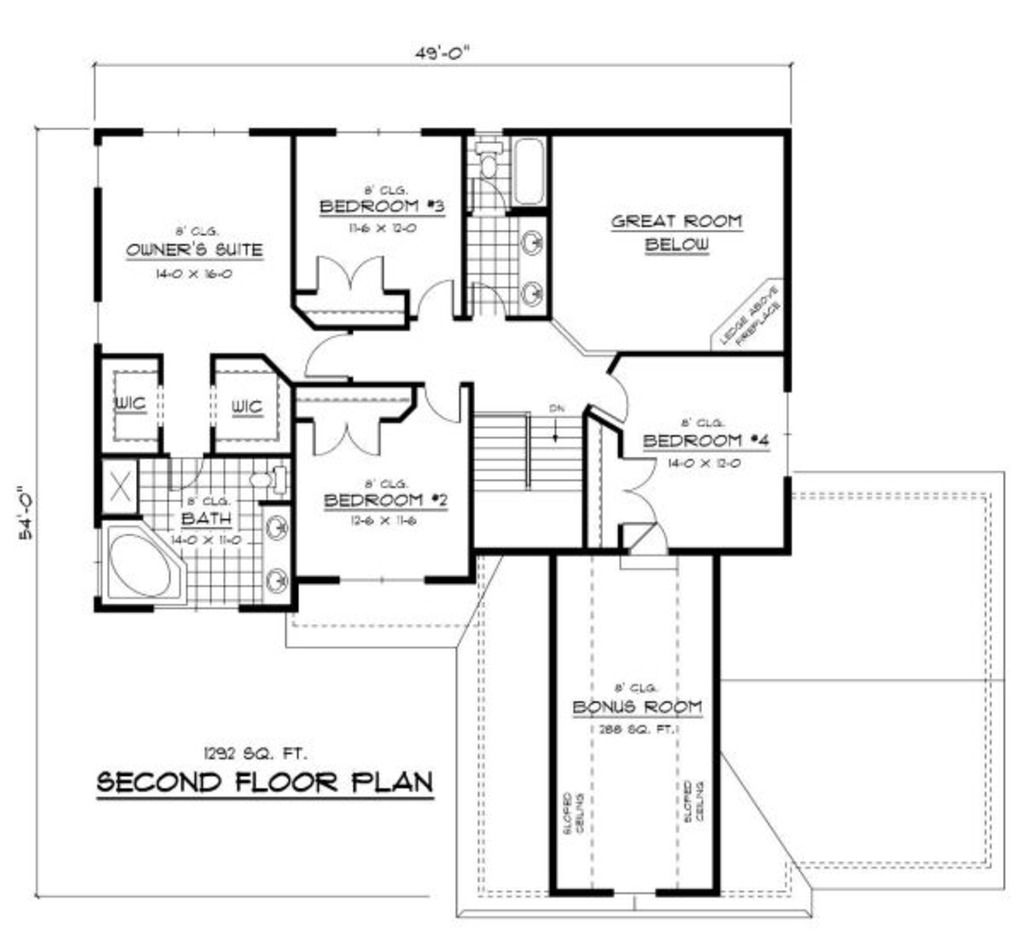door: (614, 453, 662, 533), (311, 253, 390, 294), (310, 419, 384, 459), (299, 331, 350, 385), (418, 375, 467, 429), (589, 374, 632, 424), (416, 277, 454, 322)
large_sink: (245, 465, 290, 503), (468, 138, 504, 177)
small_sink: (254, 509, 297, 612), (512, 208, 551, 321)
tub: (97, 517, 191, 612), (509, 132, 548, 205)
windows: (138, 121, 249, 144), (778, 382, 802, 480), (334, 125, 434, 141), (612, 886, 662, 900)
